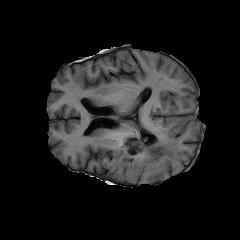glioma: (121, 136, 178, 171)
